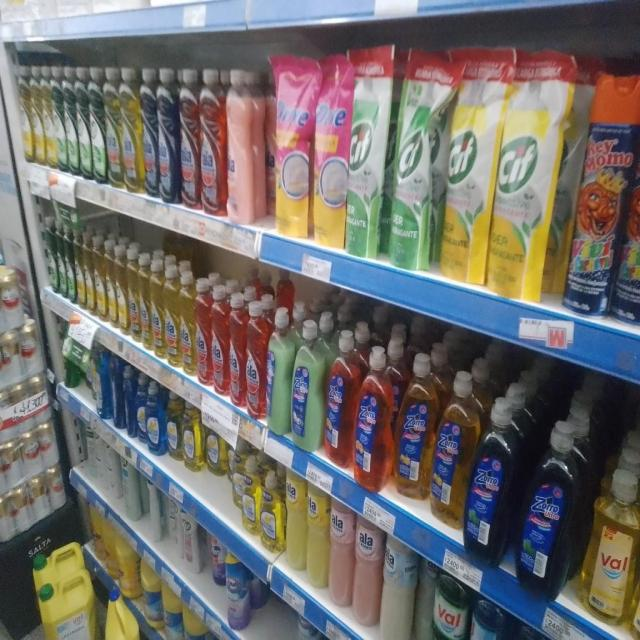ala_conc_amarillo: (122, 66, 140, 195), (105, 66, 121, 190), (164, 260, 179, 368), (180, 270, 194, 377), (151, 257, 164, 359), (128, 248, 140, 343), (140, 253, 151, 351)
ala_conc_azul: (158, 67, 178, 205), (141, 66, 157, 200)
ala_conc_rojo: (200, 66, 226, 218), (179, 66, 199, 211), (246, 298, 266, 420), (211, 284, 228, 396), (229, 293, 245, 408), (196, 278, 210, 387)
ala_crem_amarillo: (307, 485, 329, 591), (285, 470, 306, 572)
ala_crem_blanco: (381, 533, 415, 640)
ala_crem_rosado: (354, 516, 380, 628), (329, 500, 353, 611)
ala_ultra_rosa: (227, 66, 259, 226)
cif_conc_bot_amarilla: (30, 63, 42, 167)
cif_conc_botella_verde: (90, 66, 104, 186), (76, 66, 90, 181), (52, 65, 64, 173), (65, 65, 76, 176)
cif_conc_sachet_amarillo: (492, 47, 556, 302), (442, 47, 492, 286)
cif_conc_sachet_verde: (388, 48, 439, 272), (348, 45, 384, 259)
drive: (271, 56, 312, 240)
magistral_con_amarillo: (260, 469, 284, 555), (242, 450, 260, 537), (183, 402, 203, 472), (205, 416, 226, 476), (166, 392, 182, 462)
magistral_con_azul: (146, 380, 165, 456), (134, 376, 146, 447)
zorro: (354, 344, 393, 492), (431, 368, 467, 528), (395, 351, 432, 501)
